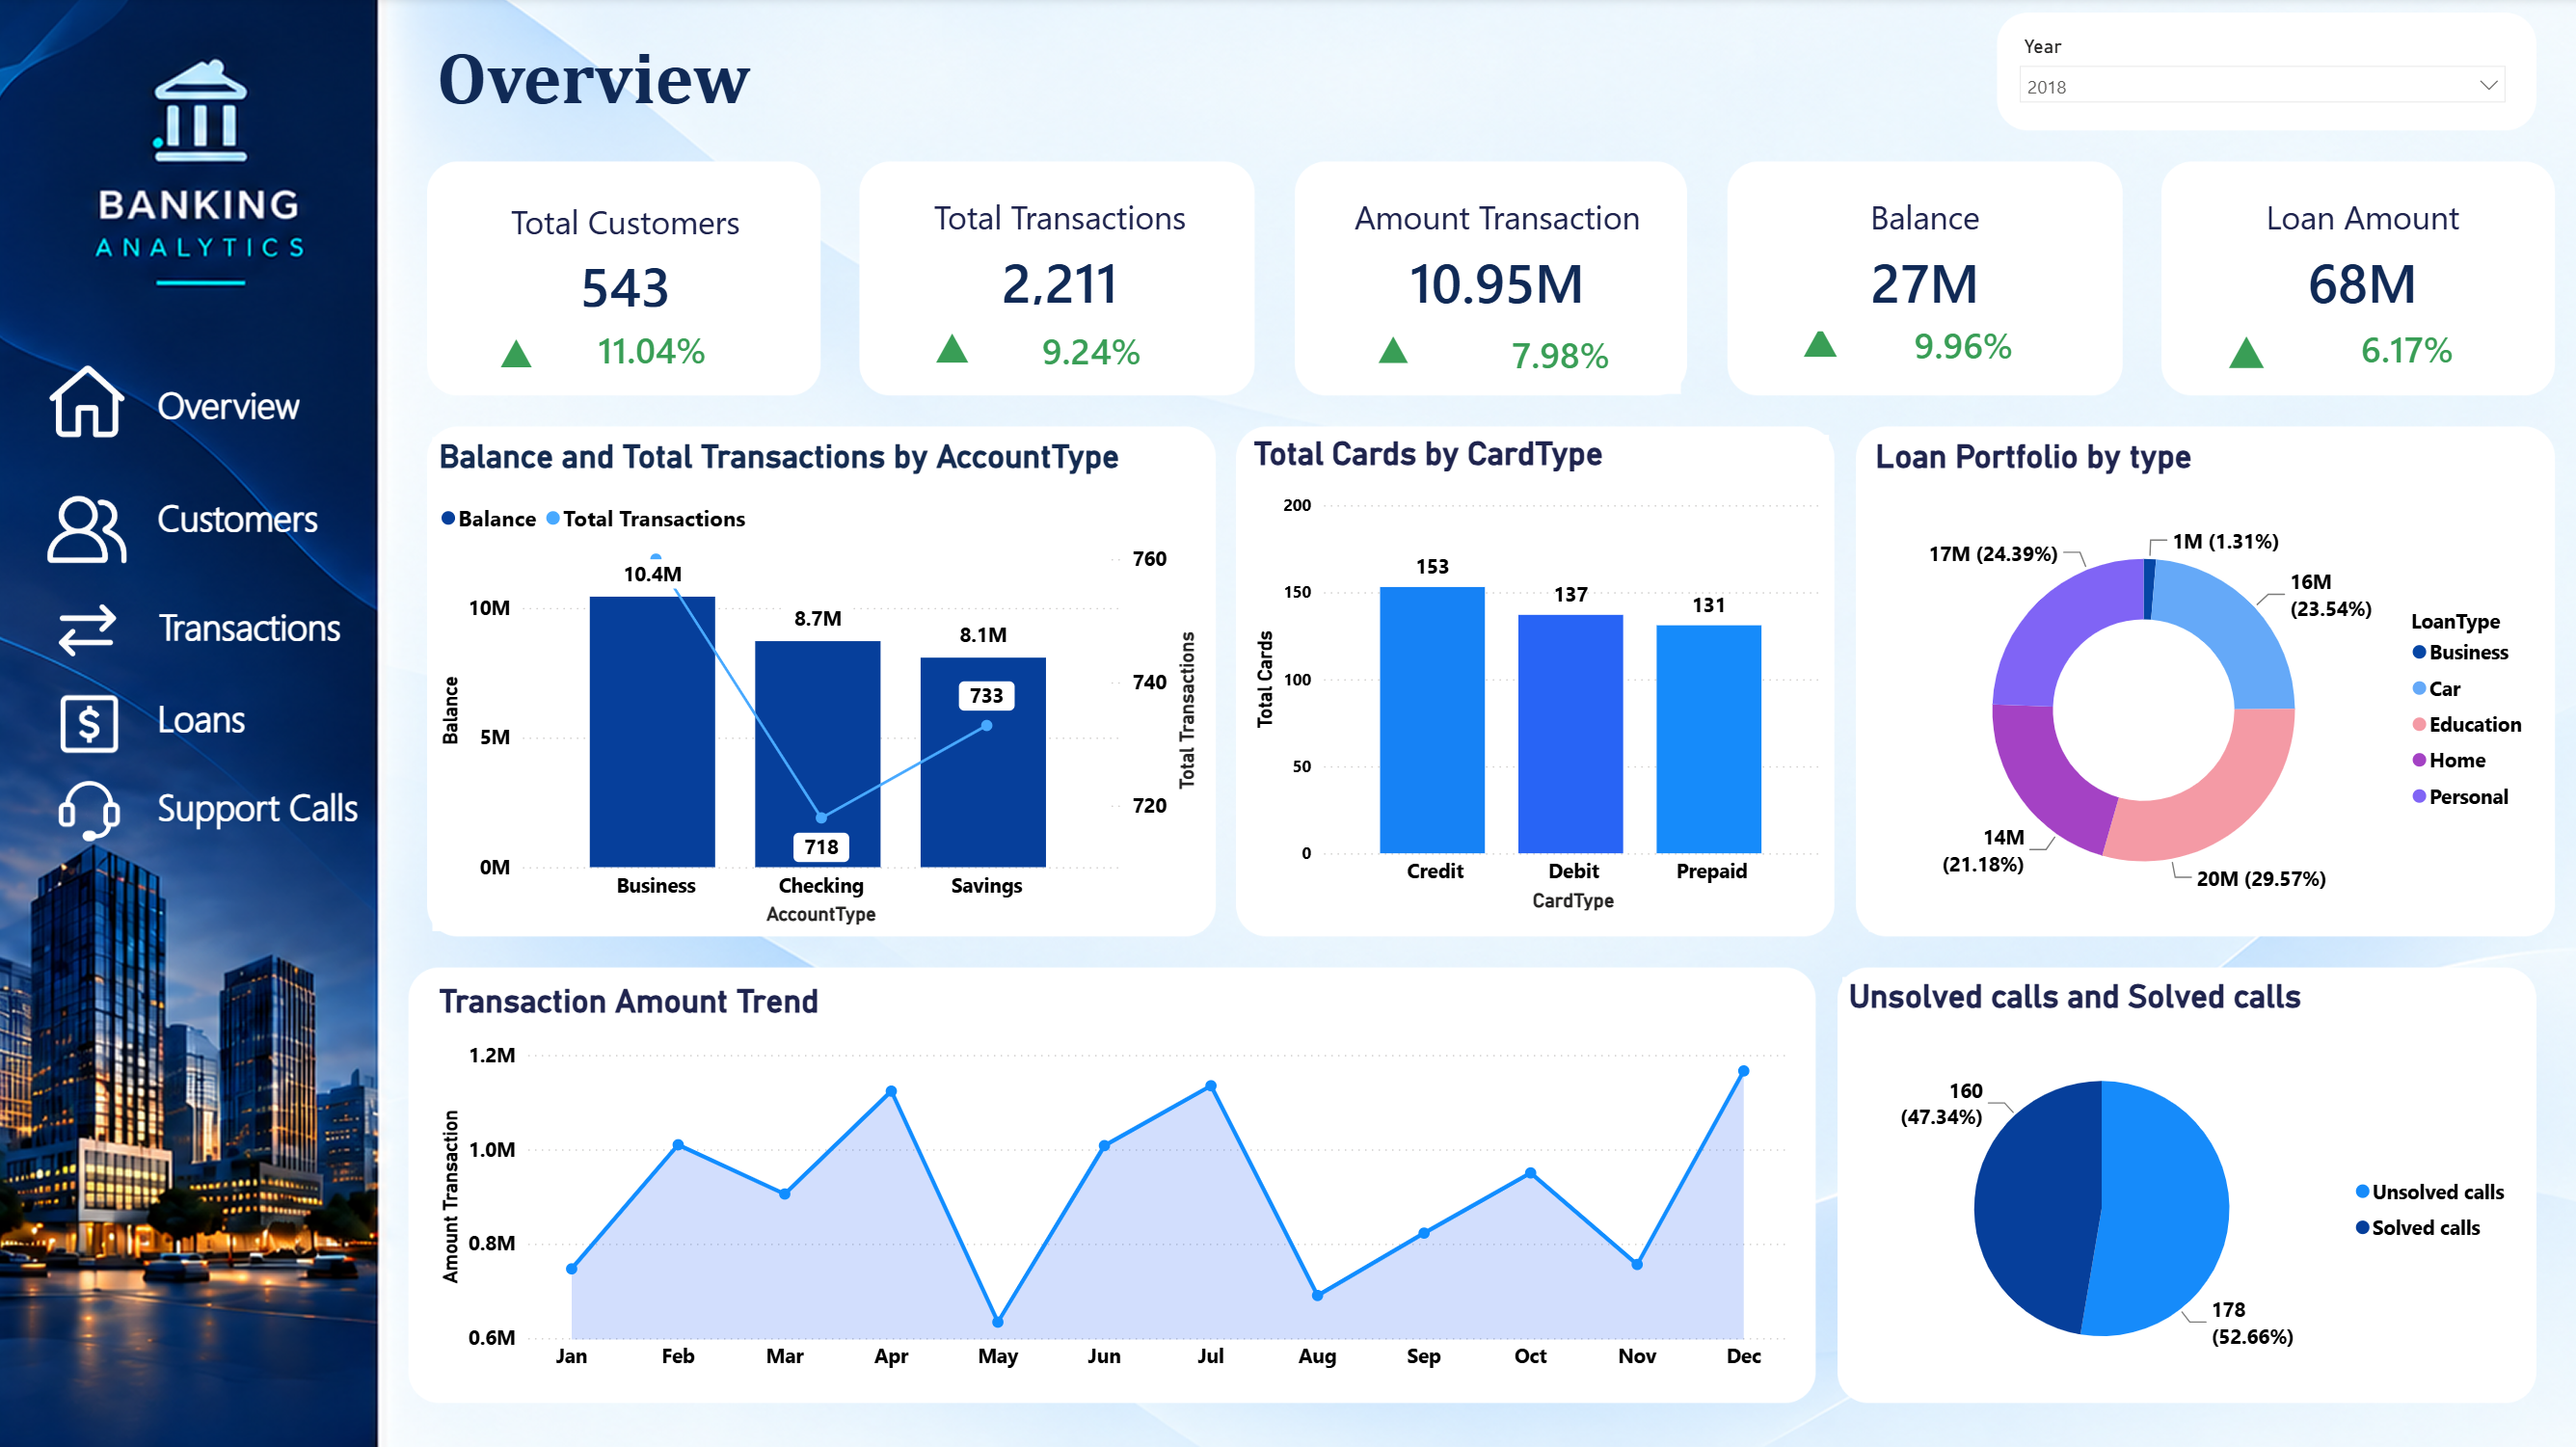

This screenshot's page, from the dashboard's own definition file:
{"tool":"powerbi","page":{"name":"Overview","canvas":[1920,1080],"ordinal":1},"visuals":[{"type":"cardVisual","fields":{"Data":["Calculation Overview.Total Customers"]},"box":[324,130,286,130],"z":0},{"type":"cardVisual","fields":{"Data":["Calculation Overview.Loan Amount"]},"box":[1621.4,130.4,264.3,123.2],"z":1000},{"type":"cardVisual","fields":{"Data":["Calculation Overview.Total Transactions"]},"box":[648.2,130.4,280.4,123.2],"z":2000},{"type":"cardVisual","fields":{"Data":["Calculation Overview.Amount Transaction"]},"box":[976.8,130.4,271.4,123.2],"z":3000},{"type":"cardVisual","fields":{"Data":["Calculation Overview.show Loan"]},"box":[1703.6,228.6,166.7,63],"z":6000},{"type":"cardVisual","fields":{"Data":["Calculation Overview.show Transaction"]},"box":[726,228,170,64],"z":7000},{"type":"cardVisual","fields":{"Data":["Calculation Overview.show Amount Transactions"]},"box":[1071.4,233.9,176.8,60.7],"z":8000},{"type":"cardVisual","fields":{"Data":["Calculation Overview.show Balance"]},"box":[1368,226,180,60],"z":9000},{"type":"lineChart","title":"Transaction Amount Trend","fields":{"Category":["Calender.Month Name"],"Y":["Calculation Overview.Amount Transaction"]},"box":[322.5,730,1008,298],"z":10000},{"type":"donutChart","title":"Loan Portfolio by type","fields":{"Series":["Loans.LoanType"],"Y":["Calculation Overview.Loan Amount"]},"box":[1387.5,326.2,498.8,366.2],"z":11000},{"type":"pieChart","fields":{"Y":["Calculations support calls.Unsolved calls","Calculations support calls.Solved calls"]},"box":[1368.8,727.5,505,305],"z":12000},{"type":"lineClusteredColumnComboChart","fields":{"Category":["Accounts.AccountType"],"Y":["Calculation Overview.Balance"],"Y2":["Calculation Overview.Total Transactions"]},"box":[323,326,571,366],"z":13000},{"type":"cardVisual","fields":{"Data":["Calculation Overview.Arrow TotalTransactions"]},"box":[662,228,92,60],"z":15000},{"type":"cardVisual","fields":{"Data":["Calculation Overview.Arrow AmountTransactions"]},"box":[976.8,233.9,117.9,55.4],"z":16000},{"type":"cardVisual","fields":{"Data":["Calculation Overview.Arrow Balance"]},"box":[1294.4,224.1,114.8,61.1],"z":17000},{"type":"cardVisual","fields":{"Data":["Calculation Overview.Arrow Loan"]},"box":[1622.2,227.8,92.6,64.8],"z":18000},{"type":"slicer","fields":{"Values":["Calender.Year"]},"box":[1490,24,380,86],"z":19000},{"type":"clusteredColumnChart","fields":{"Category":["Cards.CardType"],"Y":["Calculation Overview.Total Cards"]},"box":[927.5,325,431.2,357.5],"z":20000},{"type":"textbox","box":[322,24,298,106],"z":21000},{"type":"textbox","box":[119.1,271.8,130,55],"z":22000},{"type":"textbox","box":[118.8,441.2,162,51],"z":23000},{"type":"textbox","box":[119.1,587.3,140,51.8],"z":24000},{"type":"image","box":[30.9,253.6,73.6,92.7],"z":25000},{"type":"image","box":[31.2,348.8,73.8,92],"z":26000},{"type":"image","box":[31,424,73.8,92],"z":27000},{"type":"image","box":[31.2,516.2,73.8,47.5],"z":28000},{"type":"image","box":[32,576,73.8,53.8],"z":29000},{"type":"shape","box":[119.1,271.8,136.7,60],"z":30000},{"type":"shape","box":[119.1,355.5,136.7,60],"z":31000},{"type":"shape","box":[119.1,436.4,136.7,60],"z":32000},{"type":"shape","box":[119.1,503.6,136.7,60],"z":33000},{"type":"shape","box":[119.1,569.1,150.9,60],"z":34000},{"type":"cardVisual","fields":{"Data":["Calculation Overview.show customer"]},"box":[408,230,158,60],"z":34500},{"type":"cardVisual","fields":{"Data":["Calculation Overview.Arrow customer"]},"box":[338,234,96,58],"z":35000},{"type":"cardVisual","fields":{"Data":["Calculation Overview.Balance"]},"box":[1294.6,130.4,269.6,123.2],"z":35500}]}

Visuals, with their boxes on the page's 1920x1080 design canvas (x1, y1, x2, y2). These are canvas units, not pixel positions in the 2576x1447 screenshot, which may show the page scaled, cropped or inside an application window:
cardVisual - Calculation Overview.Total Customers: pyautogui.locateOnScreen(324, 130, 610, 260)
cardVisual - Calculation Overview.Loan Amount: pyautogui.locateOnScreen(1621, 130, 1886, 254)
cardVisual - Calculation Overview.Total Transactions: pyautogui.locateOnScreen(648, 130, 929, 254)
cardVisual - Calculation Overview.Amount Transaction: pyautogui.locateOnScreen(977, 130, 1248, 254)
cardVisual - Calculation Overview.show Loan: pyautogui.locateOnScreen(1704, 229, 1870, 292)
cardVisual - Calculation Overview.show Transaction: pyautogui.locateOnScreen(726, 228, 896, 292)
cardVisual - Calculation Overview.show Amount Transactions: pyautogui.locateOnScreen(1071, 234, 1248, 295)
cardVisual - Calculation Overview.show Balance: pyautogui.locateOnScreen(1368, 226, 1548, 286)
"Transaction Amount Trend" lineChart: pyautogui.locateOnScreen(322, 730, 1330, 1028)
"Loan Portfolio by type" donutChart: pyautogui.locateOnScreen(1388, 326, 1886, 692)
pieChart - Calculations support calls.Unsolved calls x Calculations support calls.Solved calls: pyautogui.locateOnScreen(1369, 728, 1874, 1032)
lineClusteredColumnComboChart - Accounts.AccountType x Calculation Overview.Balance: pyautogui.locateOnScreen(323, 326, 894, 692)
cardVisual - Calculation Overview.Arrow TotalTransactions: pyautogui.locateOnScreen(662, 228, 754, 288)
cardVisual - Calculation Overview.Arrow AmountTransactions: pyautogui.locateOnScreen(977, 234, 1095, 289)
cardVisual - Calculation Overview.Arrow Balance: pyautogui.locateOnScreen(1294, 224, 1409, 285)
cardVisual - Calculation Overview.Arrow Loan: pyautogui.locateOnScreen(1622, 228, 1715, 293)
slicer - Calender.Year: pyautogui.locateOnScreen(1490, 24, 1870, 110)
clusteredColumnChart - Cards.CardType x Calculation Overview.Total Cards: pyautogui.locateOnScreen(928, 325, 1359, 682)
textbox: pyautogui.locateOnScreen(322, 24, 620, 130)
textbox: pyautogui.locateOnScreen(119, 272, 249, 327)
textbox: pyautogui.locateOnScreen(119, 441, 281, 492)
textbox: pyautogui.locateOnScreen(119, 587, 259, 639)
image: pyautogui.locateOnScreen(31, 254, 104, 346)
image: pyautogui.locateOnScreen(31, 349, 105, 441)
image: pyautogui.locateOnScreen(31, 424, 105, 516)
image: pyautogui.locateOnScreen(31, 516, 105, 564)
image: pyautogui.locateOnScreen(32, 576, 106, 630)
shape: pyautogui.locateOnScreen(119, 272, 256, 332)
shape: pyautogui.locateOnScreen(119, 356, 256, 416)
shape: pyautogui.locateOnScreen(119, 436, 256, 496)
shape: pyautogui.locateOnScreen(119, 504, 256, 564)
shape: pyautogui.locateOnScreen(119, 569, 270, 629)
cardVisual - Calculation Overview.show customer: pyautogui.locateOnScreen(408, 230, 566, 290)
cardVisual - Calculation Overview.Arrow customer: pyautogui.locateOnScreen(338, 234, 434, 292)
cardVisual - Calculation Overview.Balance: pyautogui.locateOnScreen(1295, 130, 1564, 254)
